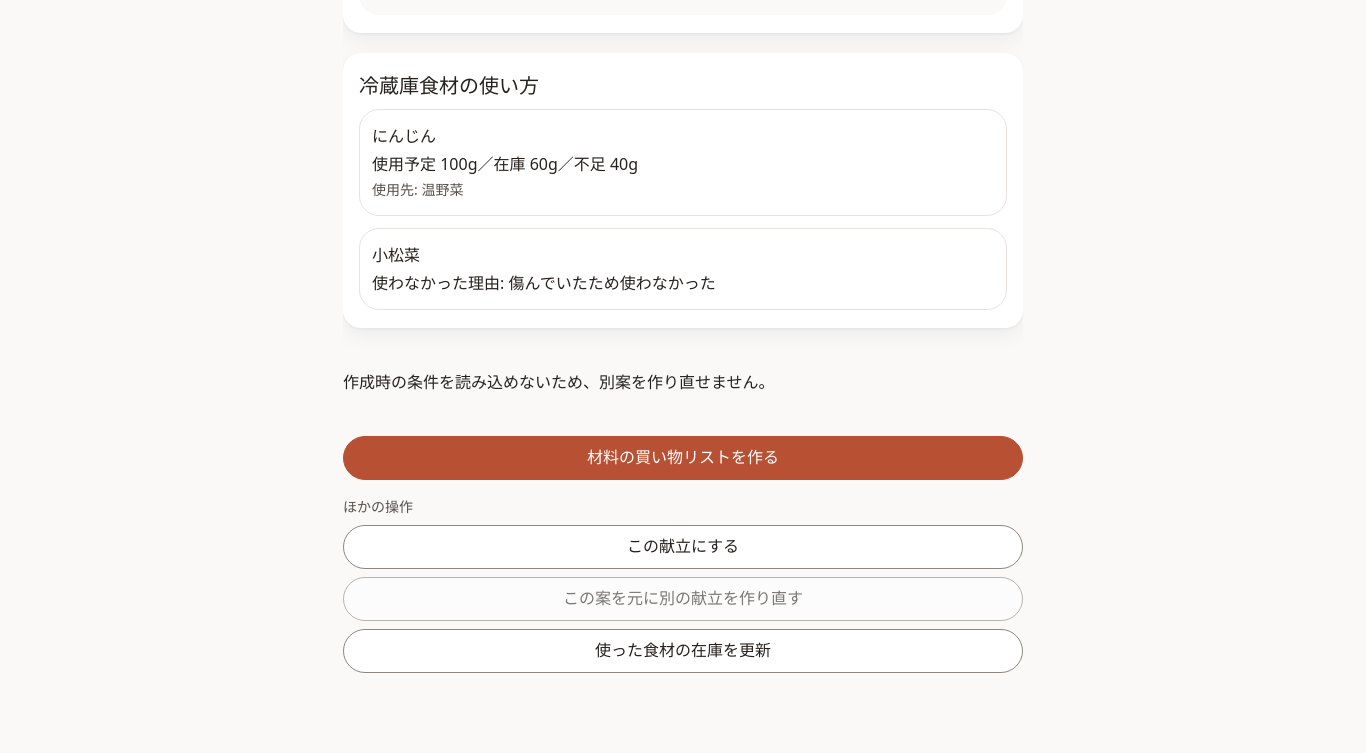
Test case: MenuResultPage › discards create sticky on list_version_conflict so true-stale can remint (SHOP1)
The width and height of the screenshot is (1366, 753).
(page scrolled)
Click the button "材料の買い物リストを作る" at (683, 458), box x1=343 y1=436 x2=1023 y2=480
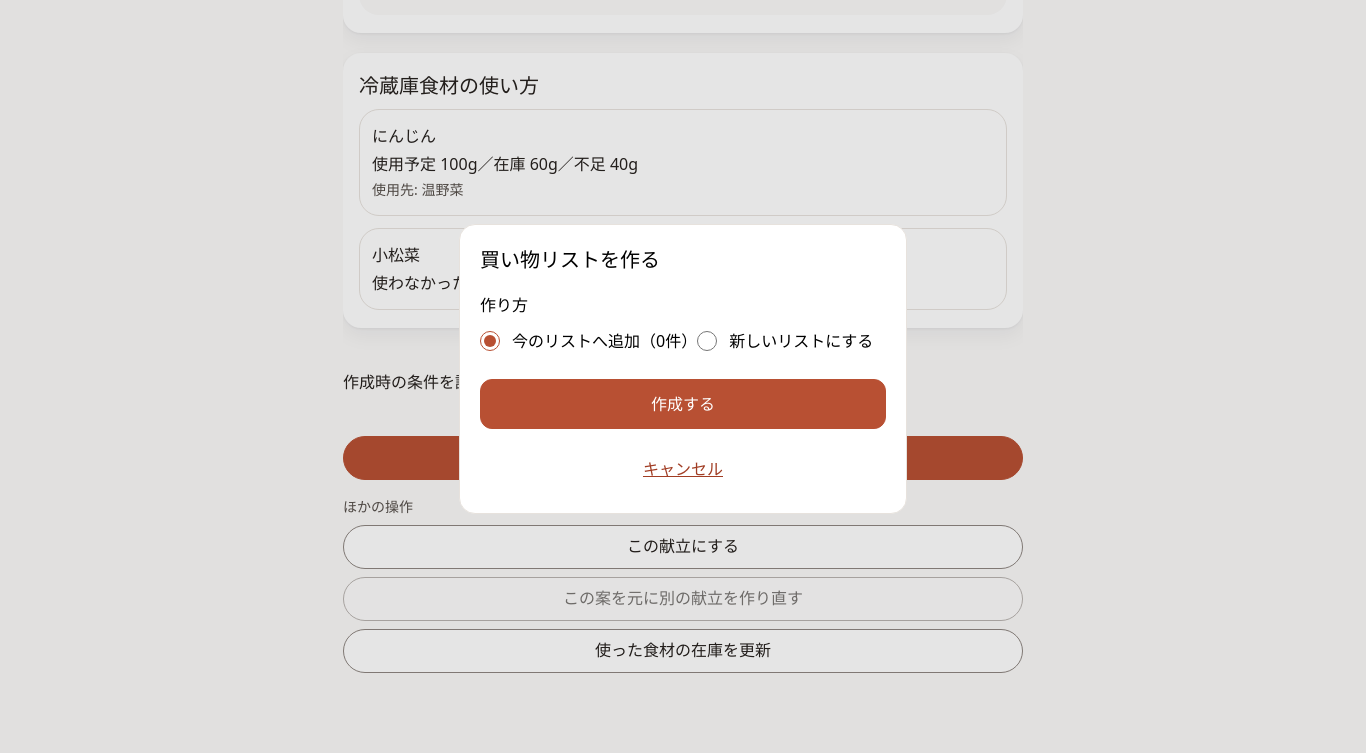
Click the radio button labelled "新しいリストにする" at (707, 341), box x1=697 y1=331 x2=717 y2=351
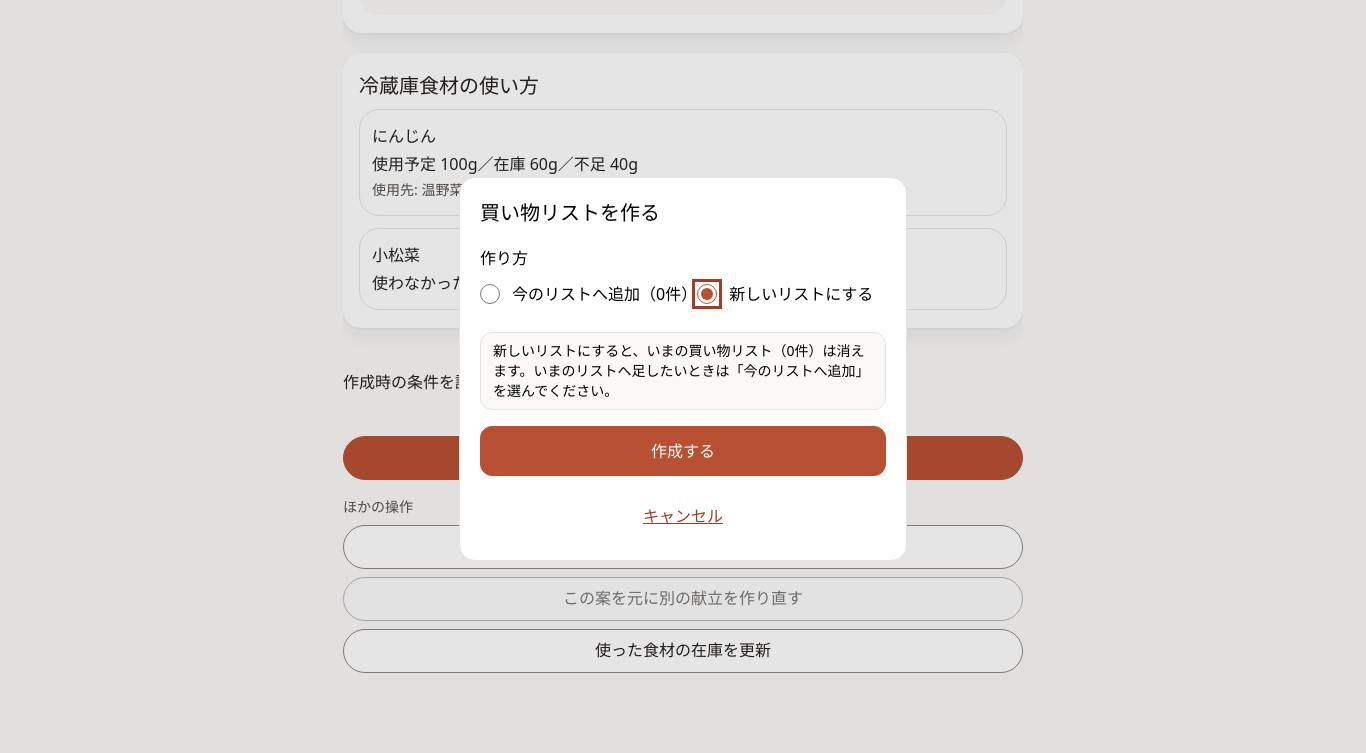
Click the button "作成する" at (683, 451), box x1=480 y1=426 x2=886 y2=476
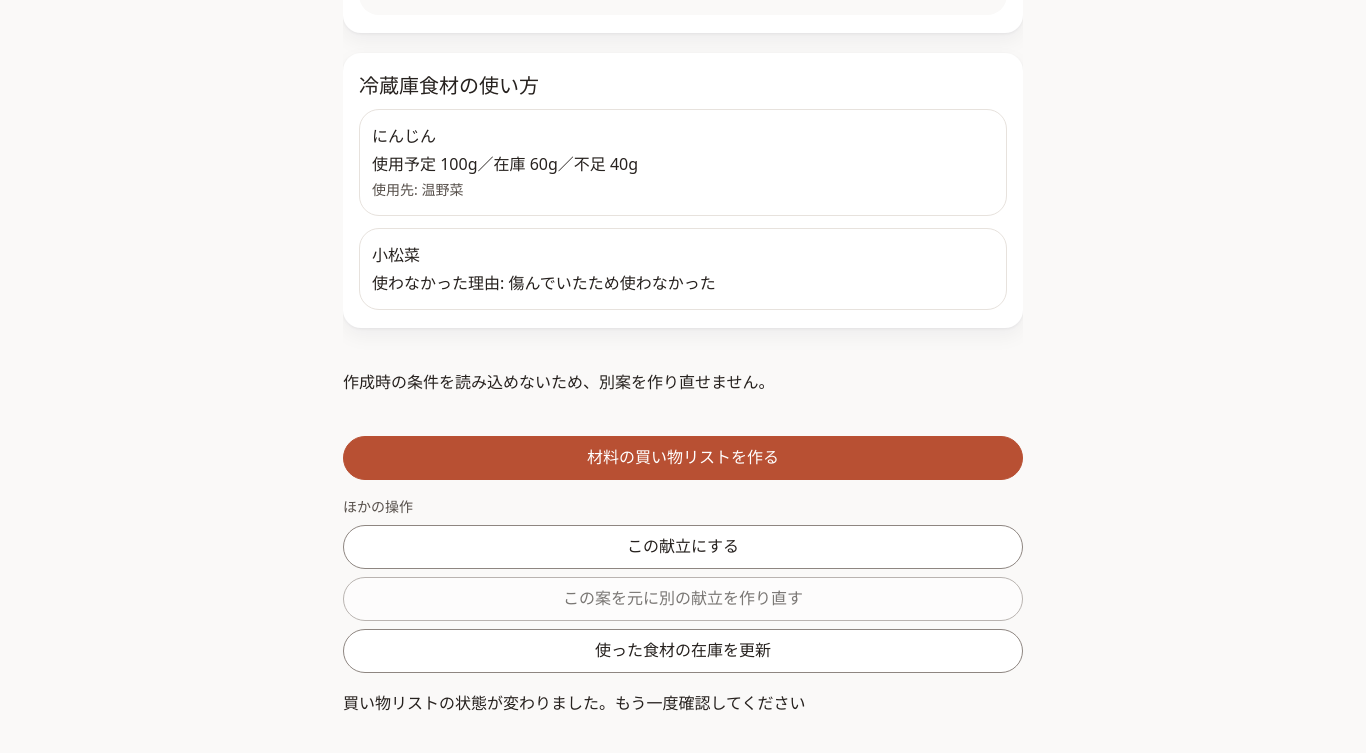
Result: the message "買い物リストの状態が変わりました。もう一度確認してください" is shown at x1=343 y1=692 x2=806 y2=714
